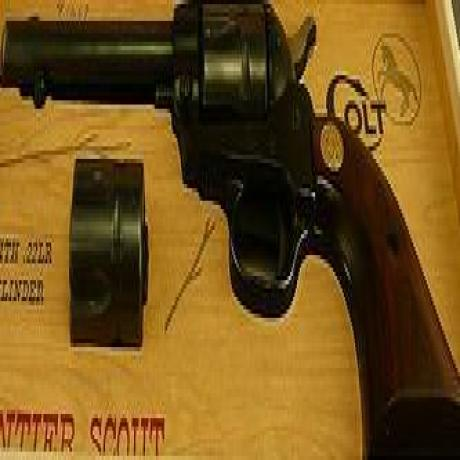weapon: (0, 11, 456, 460)
